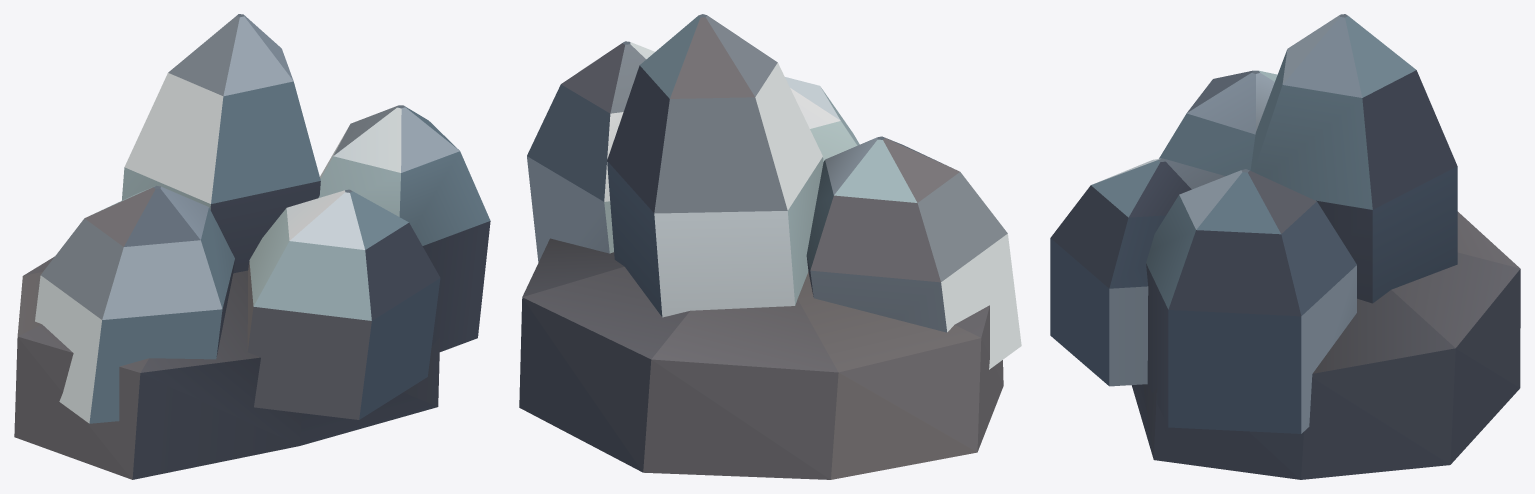
Rendered from find_star_ore.glb.
The picture shows the model from 3 angles, left to right: view 1: azimuth 30°, elevation 25°; view 2: azimuth 150°, elevation 25°; view 3: azimuth 270°, elevation 25°; orthographic projection. The views are drawn at different scales.
Visible parts, largest first — view 1: find_star_ore; view 2: find_star_ore; view 3: find_star_ore.
Boxes of the visible parts, <box> form: find_star_ore: <box>14,14,490,479</box>; find_star_ore: <box>519,14,1021,479</box>; find_star_ore: <box>1050,14,1520,479</box>.
Bounding box in the file's own units: 0.5112 × 0.47 × 0.454.
